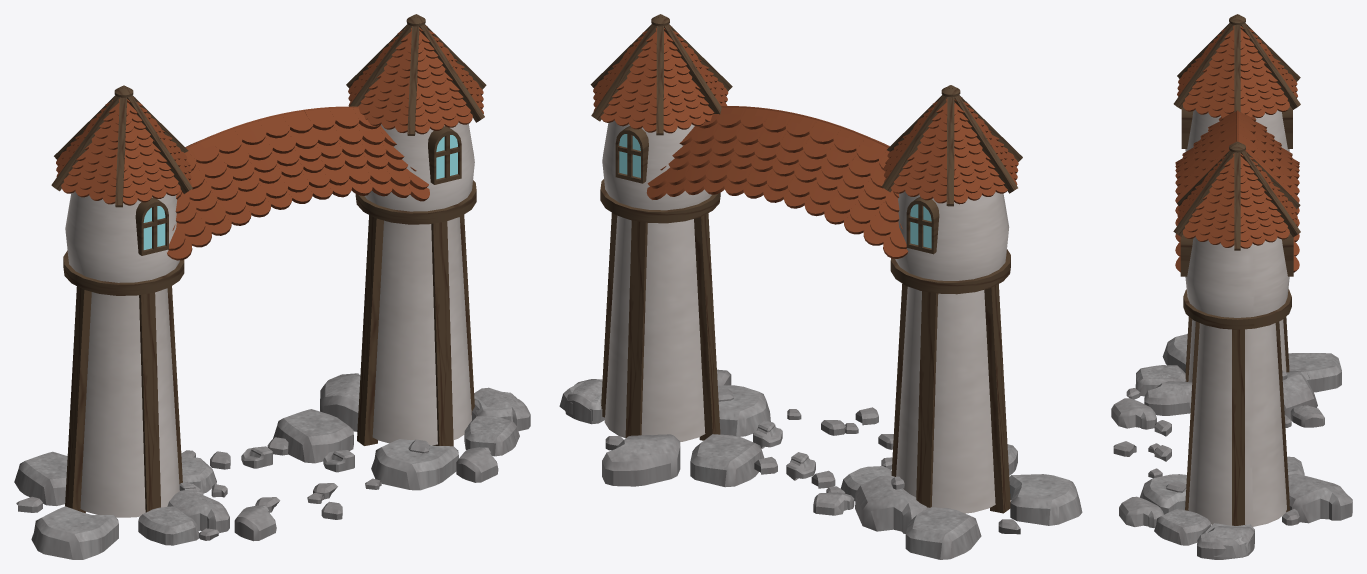
The model's file is Town_Gate.fbx.
3 renders of one model, left to right at view 1: azimuth 30°, elevation 25°; view 2: azimuth 150°, elevation 25°; view 3: azimuth 270°, elevation 25°, orthographic. The views are drawn at different scales.
Visible parts, largest first — view 1: polySurface612; view 2: polySurface612; view 3: polySurface612.
Part boxes in pixels (x1,y1,x2,y2): polySurface612: (14, 14, 530, 559); polySurface612: (559, 14, 1082, 559); polySurface612: (1111, 14, 1352, 559).
Size of the model in its own units: 3.42 by 2.77 by 1.6.
